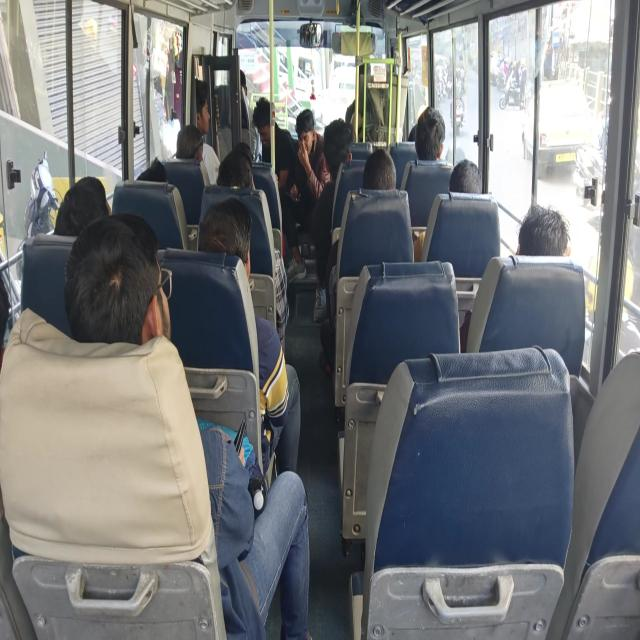person: (76, 222, 172, 370), (49, 166, 106, 251), (205, 195, 248, 285), (512, 201, 570, 264), (449, 157, 496, 226), (254, 88, 298, 153), (222, 60, 258, 135), (416, 103, 454, 173), (210, 151, 258, 206), (316, 123, 353, 189), (364, 150, 404, 205), (174, 125, 214, 178), (132, 151, 172, 204), (405, 112, 432, 158), (227, 142, 270, 169), (298, 114, 316, 154), (189, 84, 208, 121)
